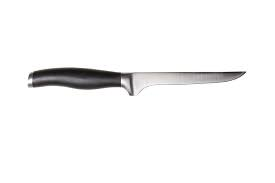knife: (26, 67, 247, 97)
